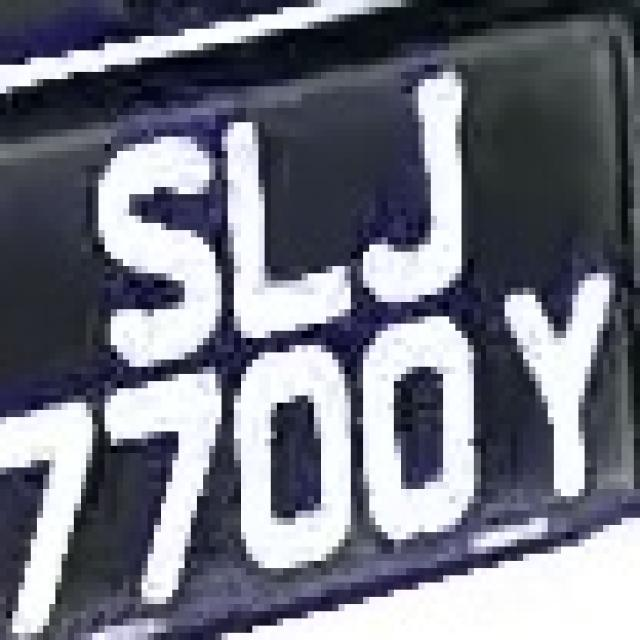0: (338, 302, 511, 561), (215, 316, 351, 590)
7: (12, 360, 92, 626), (1, 4, 2, 7)
J: (338, 50, 492, 302)
L: (203, 86, 369, 345)
S: (61, 115, 234, 367)
Y: (468, 223, 615, 532)
